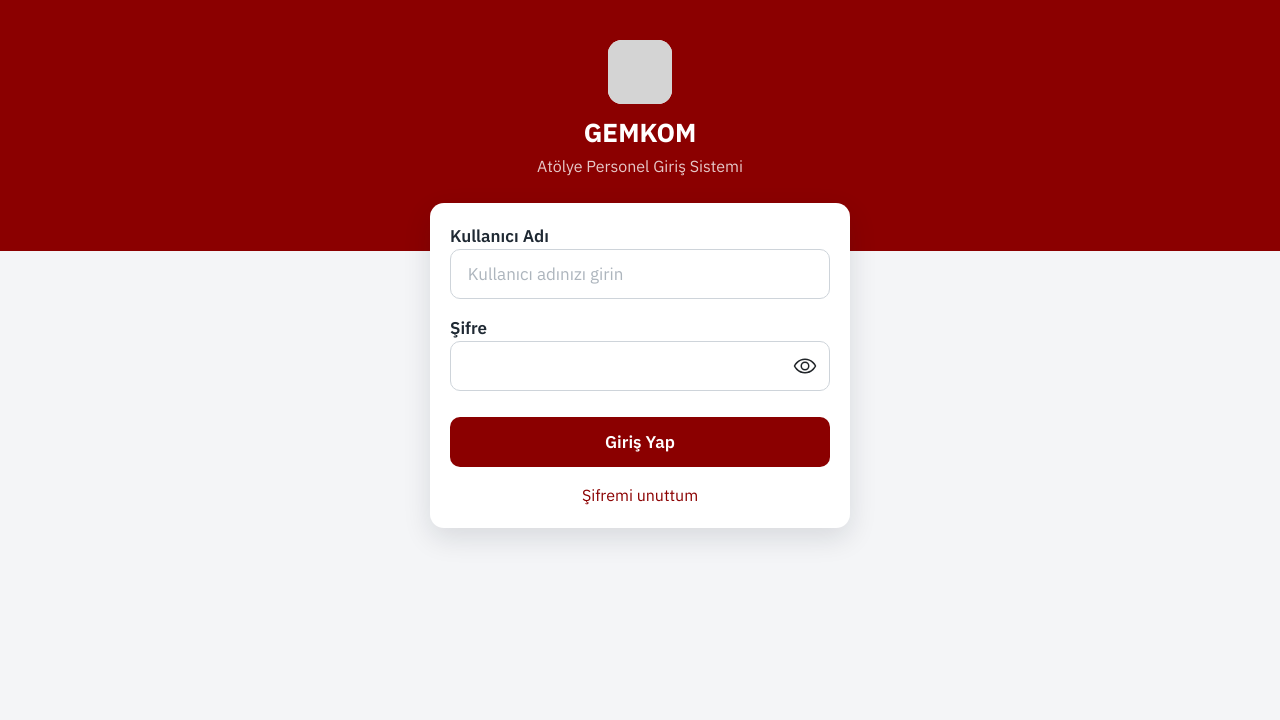
Test: login page › names a refused portal and a wrong password apart
This screenshot has width=1280, height=720.
Type "ali" into the field labelled "Kullanıcı Adı".
click(640, 274); type("ali")  # box [450, 249, 830, 299]
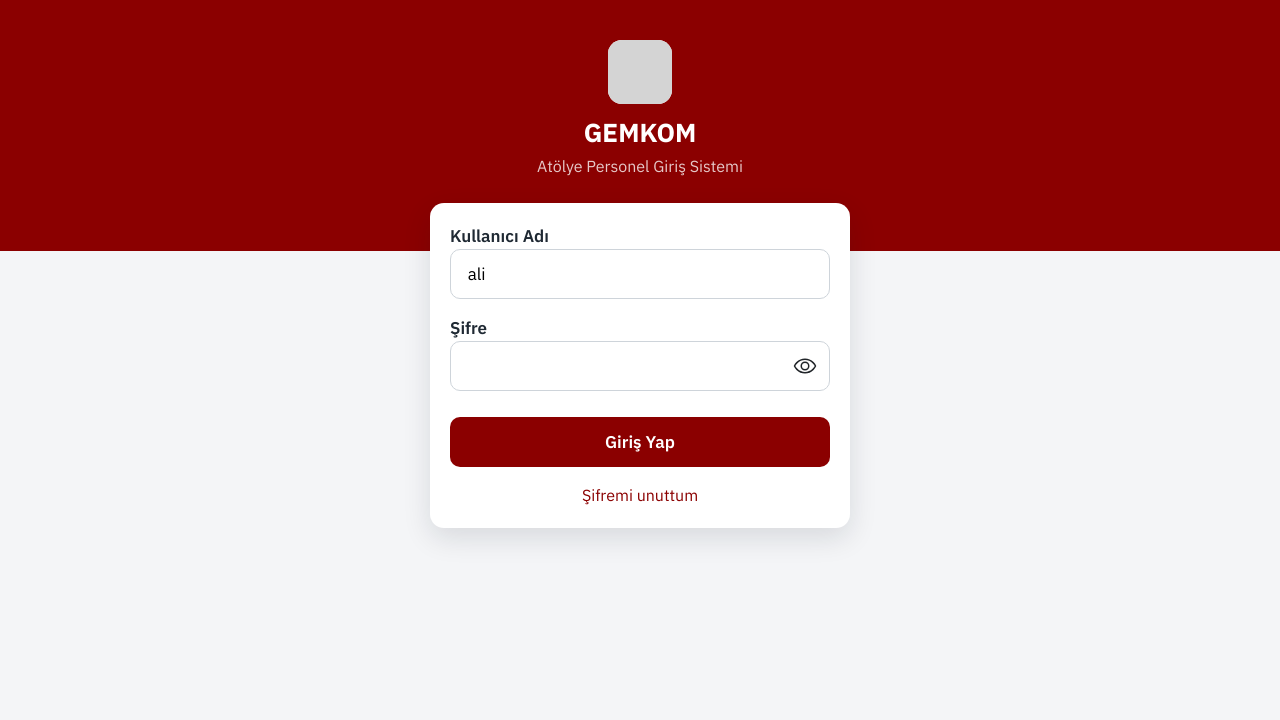
Type "x" into the password field labelled "Şifre".
click(640, 366); type("x")  # box [451, 342, 829, 390]
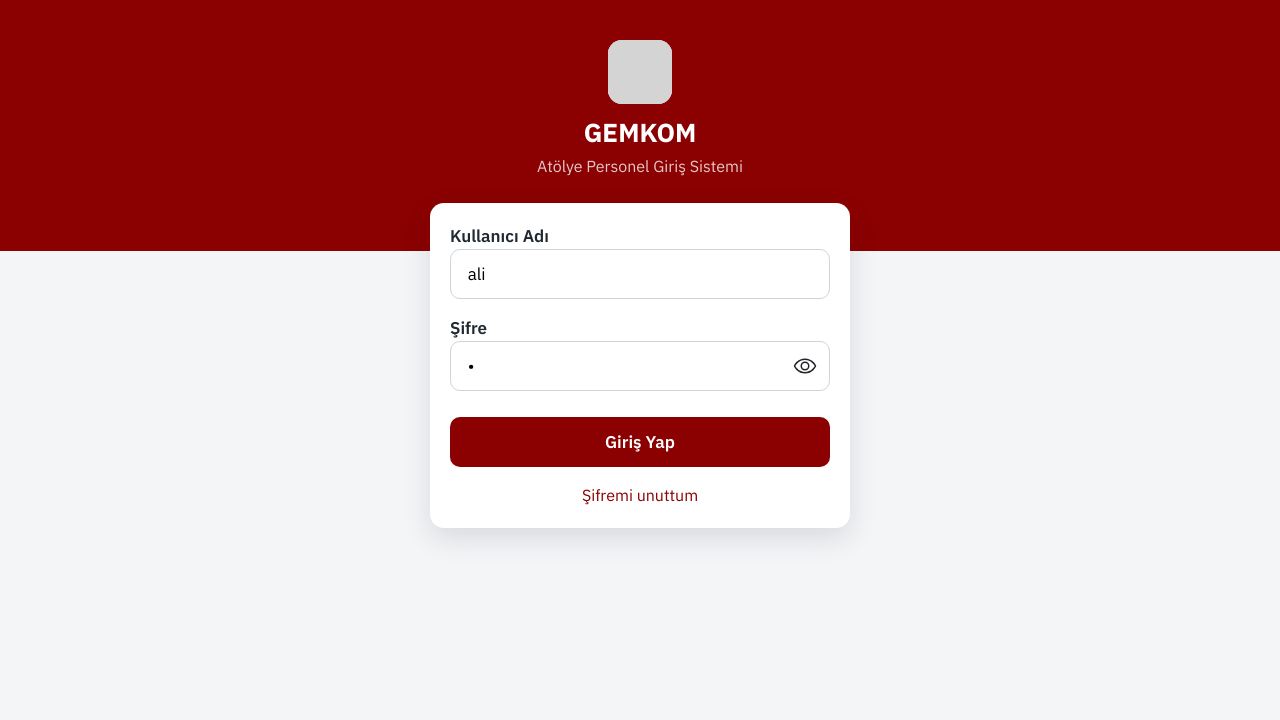
Click the button "Giriş Yap".
click(640, 442)  # box [450, 417, 830, 467]
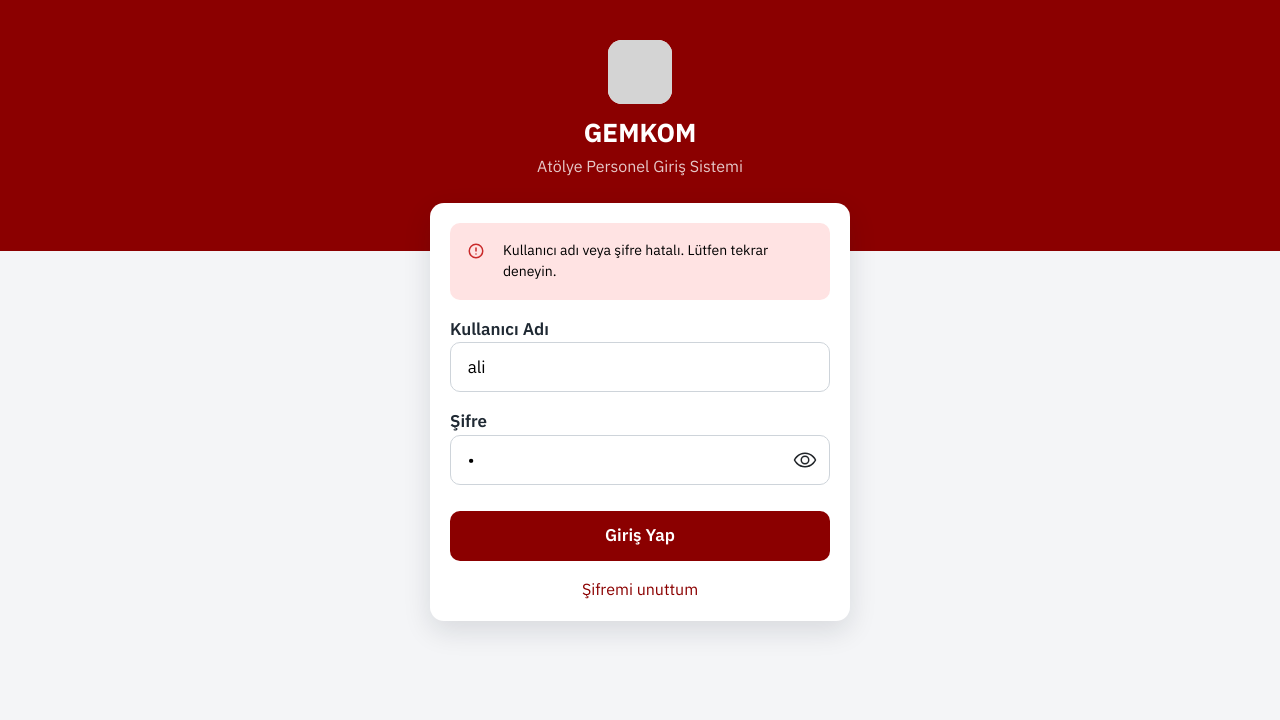
Result: the text "Kullanıcı adı veya şifre hatalı. Lütfen tekrar deneyin." is shown at [503, 240, 813, 283]
